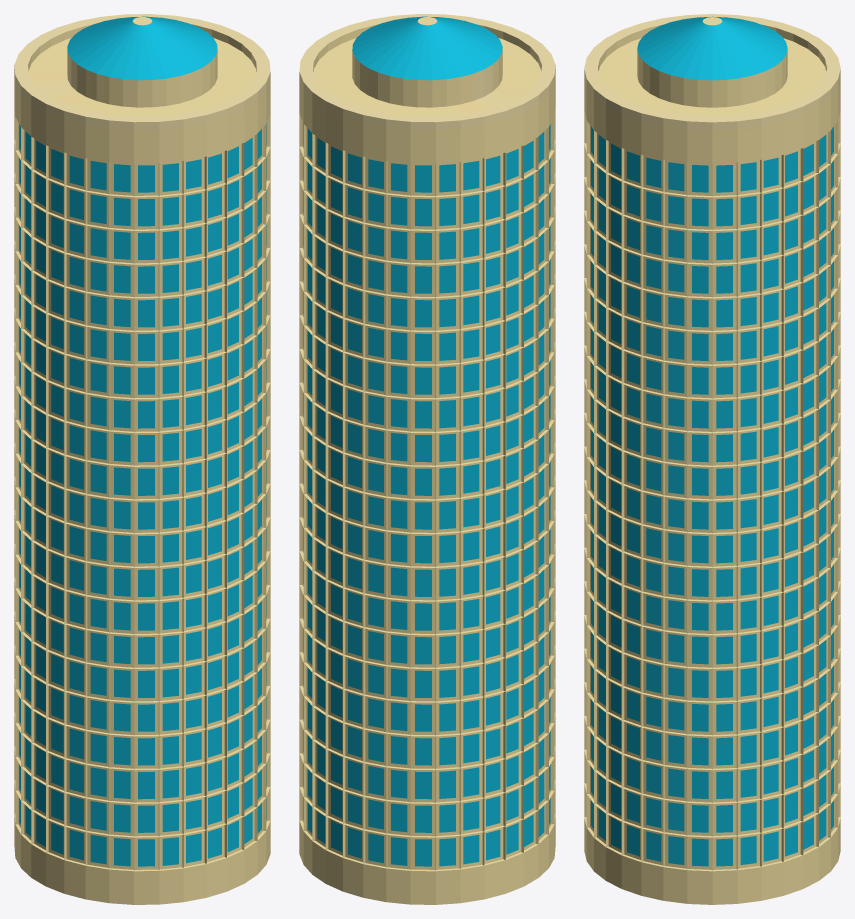
The model's file is circle_building.fbx.
3 views of the same model, side by side, from view 1: azimuth 30°, elevation 25°; view 2: azimuth 150°, elevation 25°; view 3: azimuth 270°, elevation 25° (orthographic).
Visible parts, largest first — view 1: Cylinder; view 2: Cylinder; view 3: Cylinder.
Boxes of the visible parts, x1=… form: Cylinder: x1=14, y1=14, x2=270, y2=904; Cylinder: x1=299, y1=14, x2=555, y2=904; Cylinder: x1=584, y1=14, x2=840, y2=904.
Size of the model in its own units: 1500 by 5353 by 1500.
